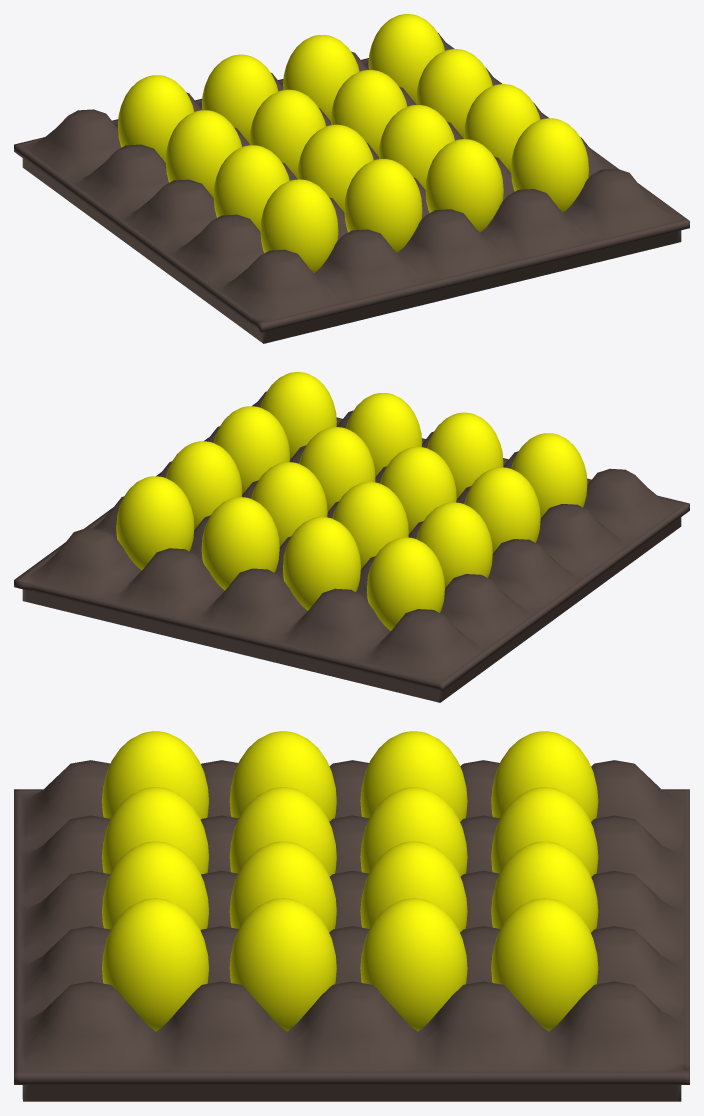
Rendered from egg_crate.glb.
3 views of the same model, one above another, from view 1: azimuth 30°, elevation 25°; view 2: azimuth 150°, elevation 25°; view 3: azimuth 270°, elevation 25° (orthographic). The views are drawn at different scales.
Visible parts, largest first — view 1: Sphere.001, Sphere; view 2: Sphere.001, Sphere; view 3: Sphere, Sphere.001.
Part boxes in pixels (bbox=[...]): Sphere.001: bbox=[118, 14, 588, 273]; Sphere: bbox=[14, 33, 689, 343]; Sphere.001: bbox=[116, 372, 587, 630]; Sphere: bbox=[14, 391, 689, 702]; Sphere: bbox=[14, 760, 689, 1101]; Sphere.001: bbox=[102, 731, 598, 1031].
Size of the model in its own units: 0.6716 by 0.1583 by 0.6712.
2 materials, 1 textured.
